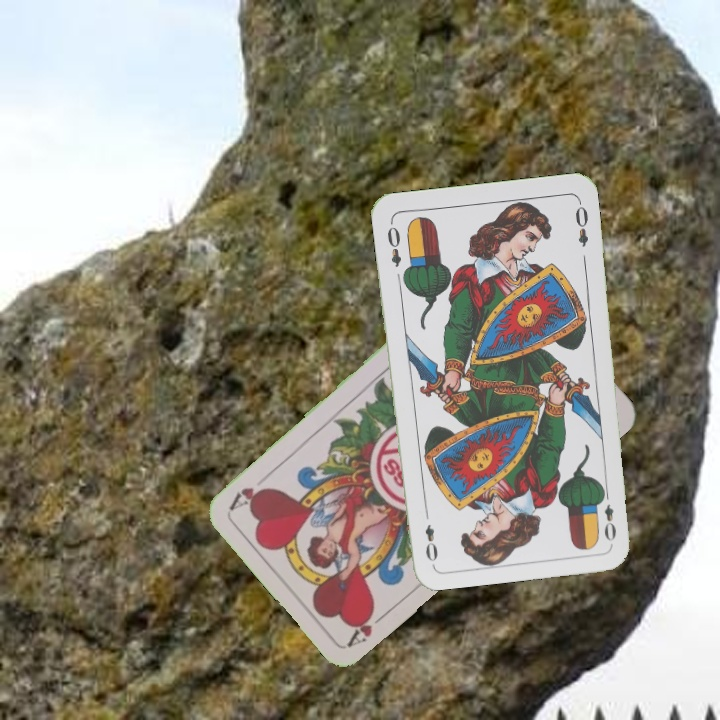EO: (596, 486, 619, 544), (383, 222, 404, 270)
HA: (344, 602, 394, 649)
